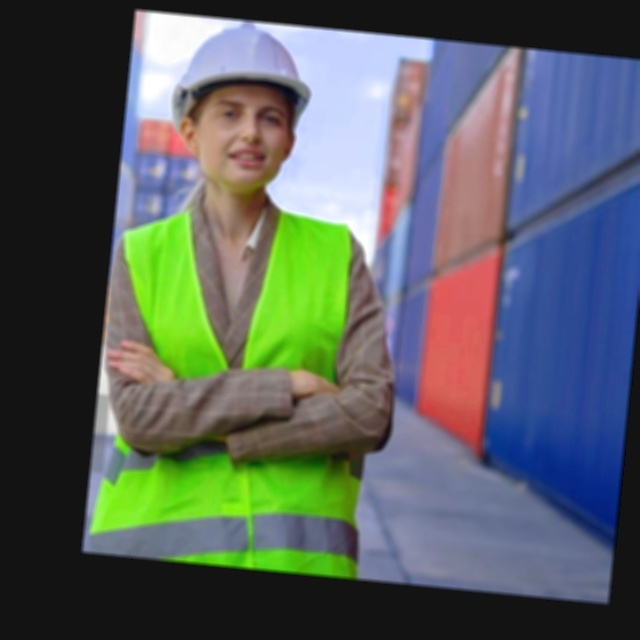Con_Casco: (159, 14, 319, 201)
Con_Chaleco: (83, 191, 385, 578)
